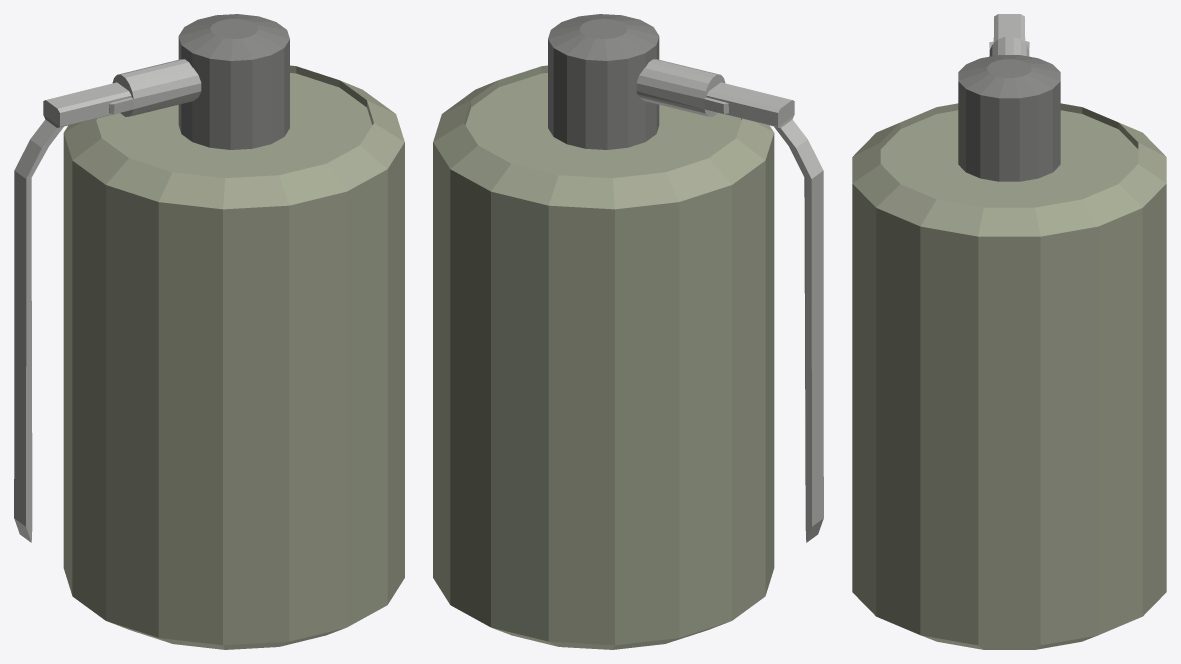
File: SM_Bomb_09.fbx
The picture shows the model from 3 angles, left to right: view 1: azimuth 30°, elevation 25°; view 2: azimuth 150°, elevation 25°; view 3: azimuth 270°, elevation 25°; orthographic projection. The views are drawn at different scales.
Visible parts, largest first — view 1: SM_Bomb_09; view 2: SM_Bomb_09; view 3: SM_Bomb_09.
Boxes of the visible parts, x1=… form: SM_Bomb_09: x1=14, y1=14, x2=404, y2=649; SM_Bomb_09: x1=433, y1=14, x2=823, y2=649; SM_Bomb_09: x1=852, y1=14, x2=1166, y2=649.
Size of the model in its own units: 3.04 by 4.54 by 2.45.
Materials: 1 (1 with a texture image).
